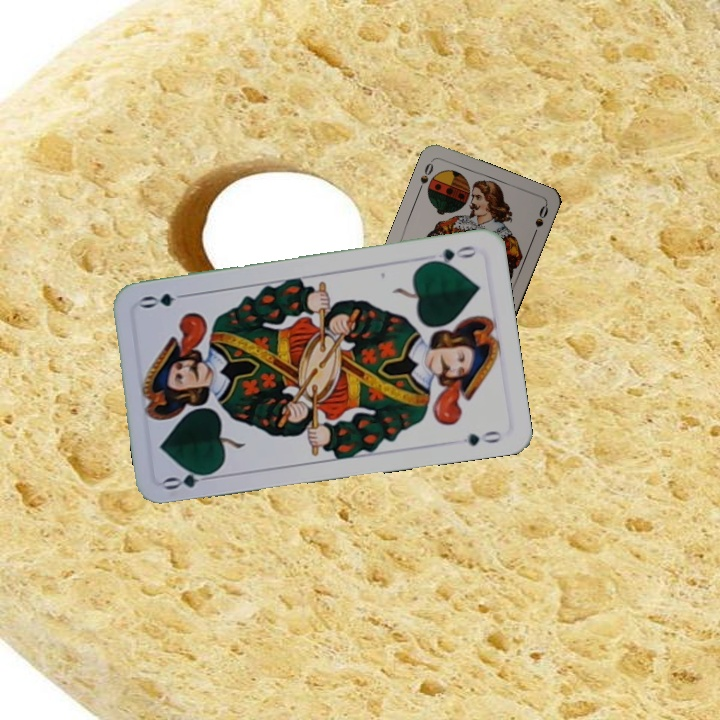GO: (160, 465, 219, 493), (422, 242, 479, 268)
SO: (414, 156, 436, 195)
